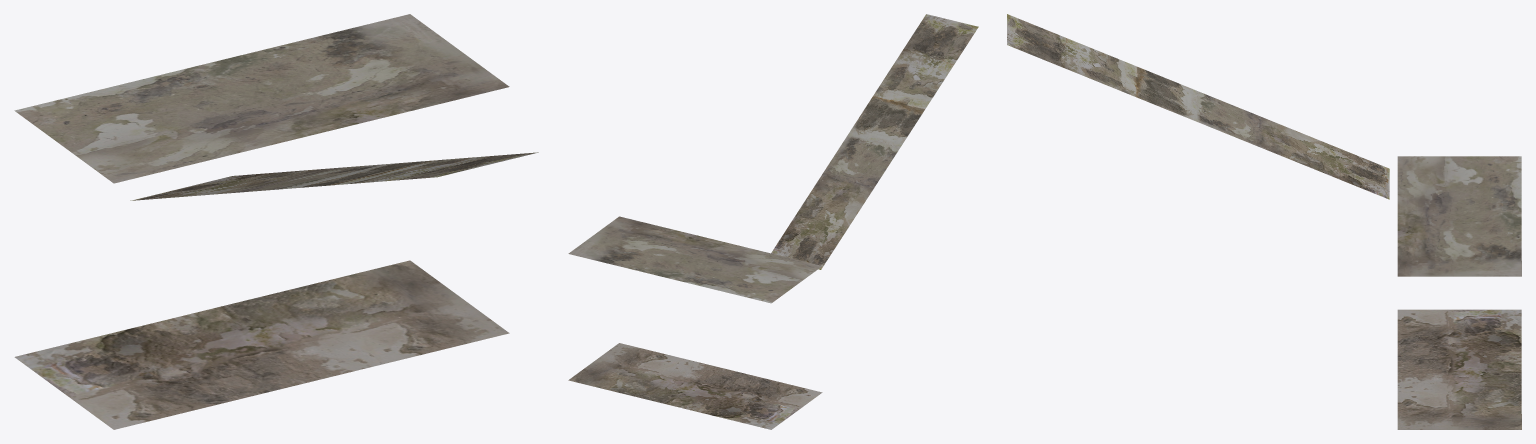
Rendered from A2_Lobby_Ceiling.FBX.
3 renders of one model, left to right at view 1: azimuth 30°, elevation 25°; view 2: azimuth 150°, elevation 25°; view 3: azimuth 270°, elevation 25°, orthographic. The views are drawn at different scales.
Visible parts, largest first — view 1: A2_Lobby_Ceiling; view 2: A2_Lobby_Ceiling; view 3: A2_Lobby_Ceiling.
Boxes of the visible parts, x1,y1,x2,y2 form: A2_Lobby_Ceiling: (14,14,538,429); A2_Lobby_Ceiling: (568,14,978,429); A2_Lobby_Ceiling: (1007,14,1521,429).
Size of the model in its own units: 538 by 624 by 974.
